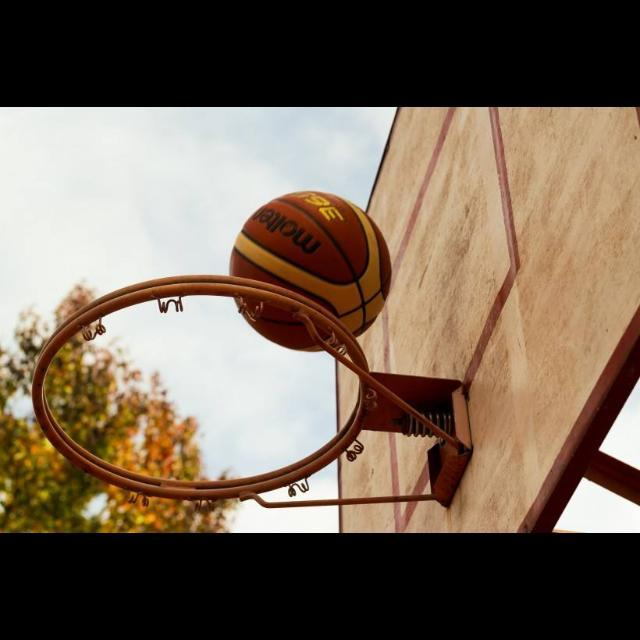basketball: (230, 192, 390, 351)
